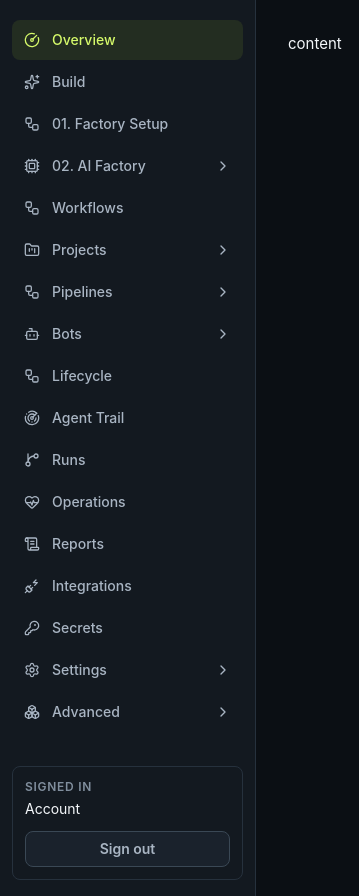
navigation opens closed, and the menu starts the column › opens a group on request and closes it again
Click the button named "expand projects subpages". click: {"x": 223, "y": 250}
box: left=207, top=234, right=239, bottom=266
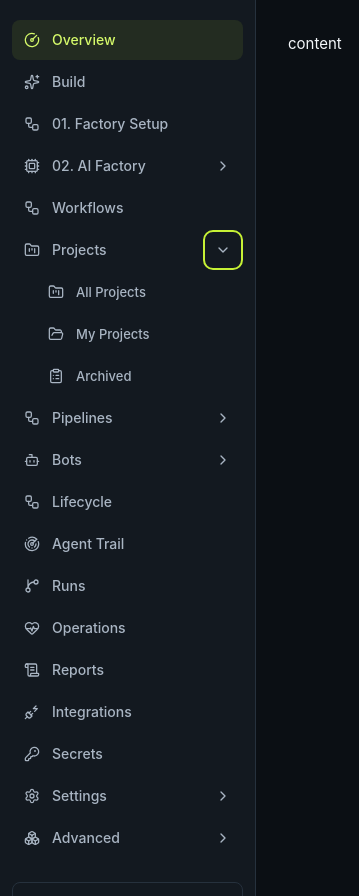
Expected: the link "Archived" is shown, left=48, top=368, right=132, bottom=384
Click the button named "collapse projects subpages". click: {"x": 223, "y": 250}
box: left=207, top=234, right=239, bottom=266
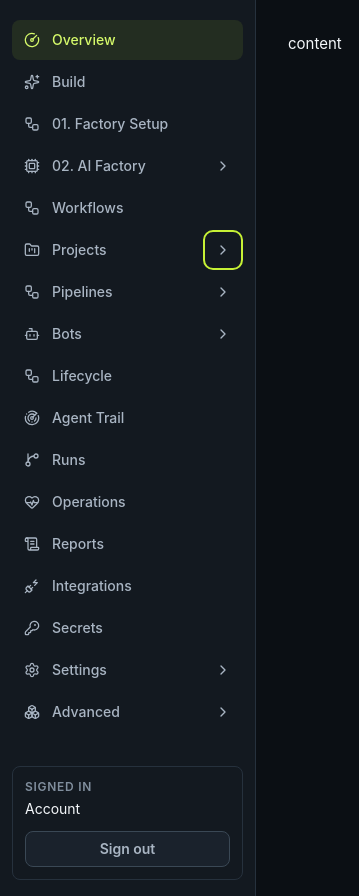
Expected: the link "Archived" is gone
